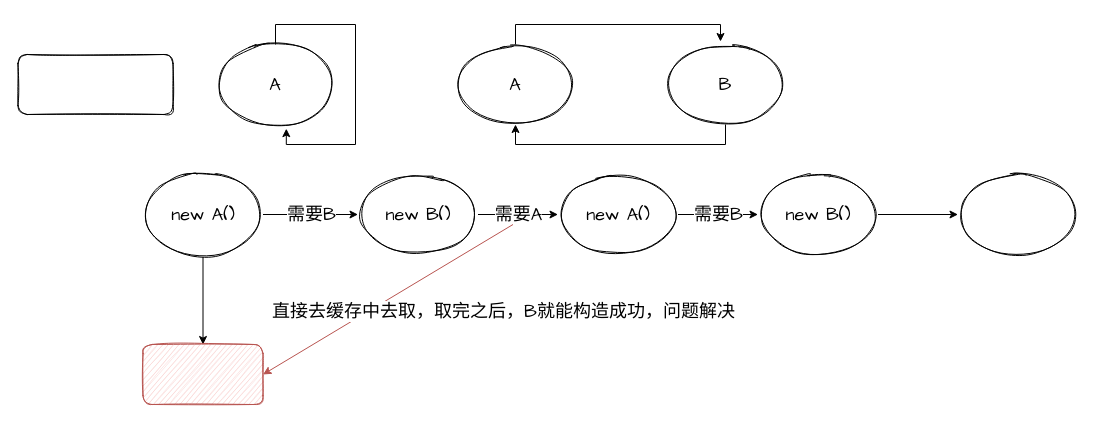
The diagram is 1095 pixels wide and 422 high, and some of its shapes have lost their labels. Each missing label, with the box of its shape:
一致循环，问题出现: (957, 174, 1078, 254)
循环依赖的情况: (17, 54, 173, 114)
把这个对象，放入Map: (142, 344, 263, 404)
